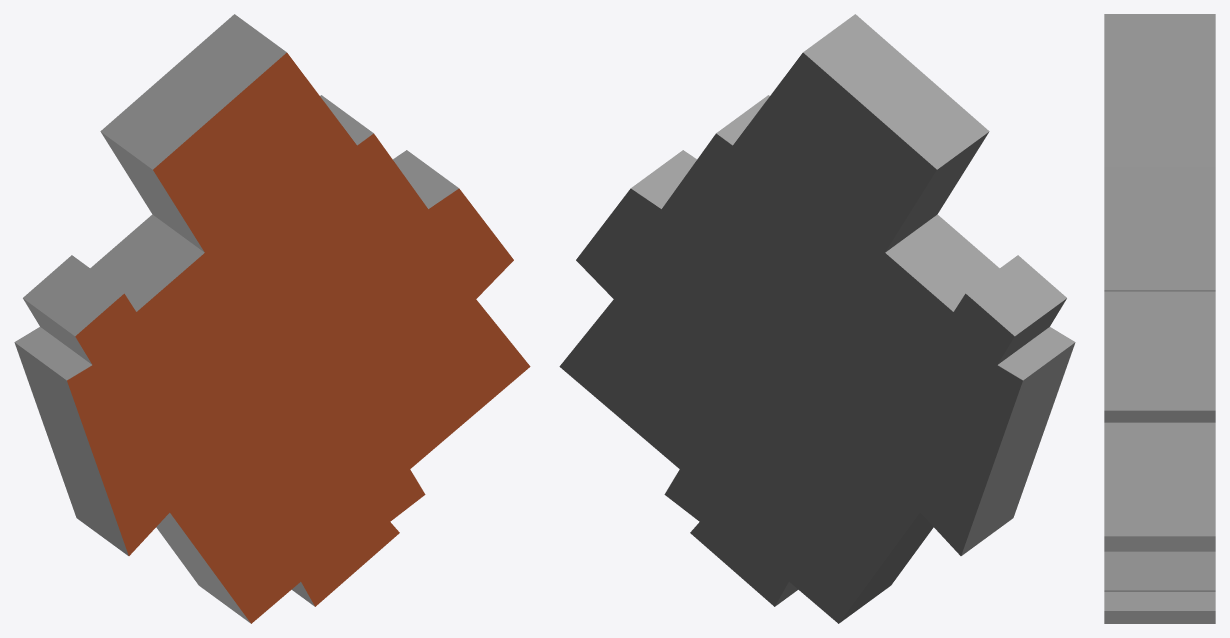
File: construction_5780_assumed_A_Casa_h6m.obj
The picture shows the model from 3 angles, left to right: view 1: azimuth 30°, elevation 25°; view 2: azimuth 150°, elevation 25°; view 3: azimuth 270°, elevation 25°; orthographic projection. The views are drawn at different scales.
Visible parts, largest first — view 1: construction_5780_assumed_A_Casa; view 2: construction_5780_assumed_A_Casa; view 3: construction_5780_assumed_A_Casa.
Part boxes in pixels (left/top/right/bottom): construction_5780_assumed_A_Casa: left=14, top=14, right=530, bottom=623; construction_5780_assumed_A_Casa: left=559, top=14, right=1075, bottom=623; construction_5780_assumed_A_Casa: left=1104, top=14, right=1215, bottom=623.
Bounding box in the file's own units: 30.62 × 35.52 × 6.
